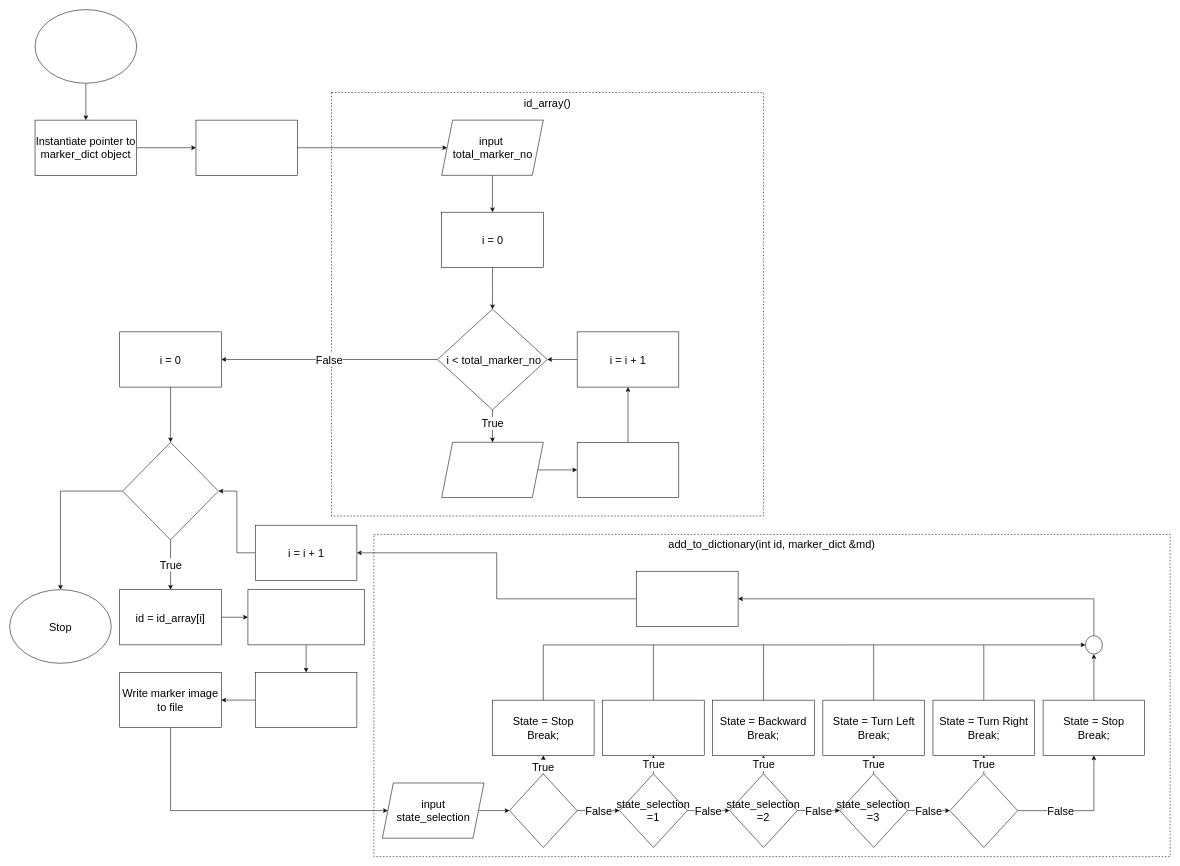
The diagram is 1180 pixels wide and 866 high, and some of its shapes have lost their labels. The centre of each missing label's shape, as x and y in pixels:
cv::Mat current = generateImageMarker(): [305,617]
i < size(id_array): [170,491]
input marker_id: [492,470]
Load predefined aruco dictionary from OpenCV library: [246,147]
marker_id appended to id_array: [628,470]
markerfilename = "/images/markerid" + id: [306,700]
md->add_marker({id, State}): [687,598]
Start: [85,46]
State = Forward Break;: [653,727]
state_selection =0: [543,810]
state_selection =4: [983,810]
